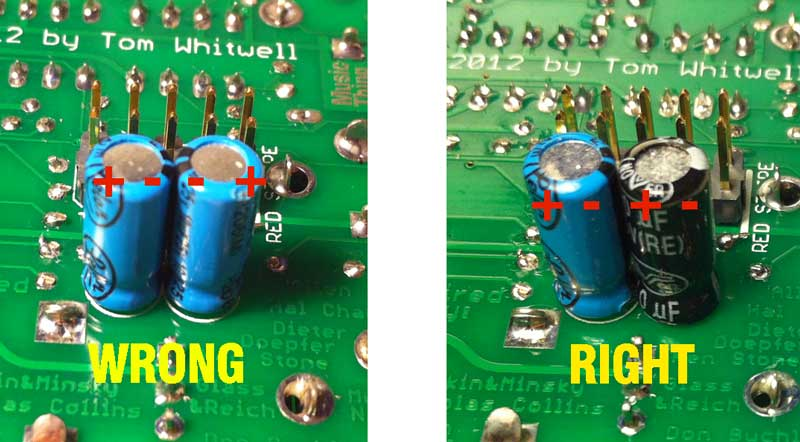capacitor: (524, 133, 640, 323), (618, 135, 723, 328), (169, 136, 266, 319), (83, 134, 176, 318)
